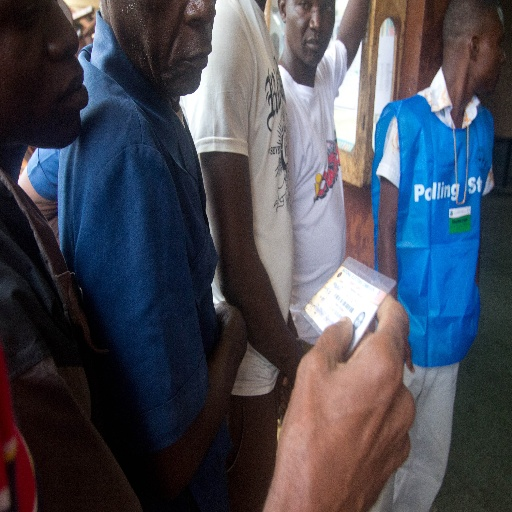hand: (282, 318, 415, 487), (287, 338, 318, 386), (211, 300, 236, 325), (403, 339, 416, 375)
